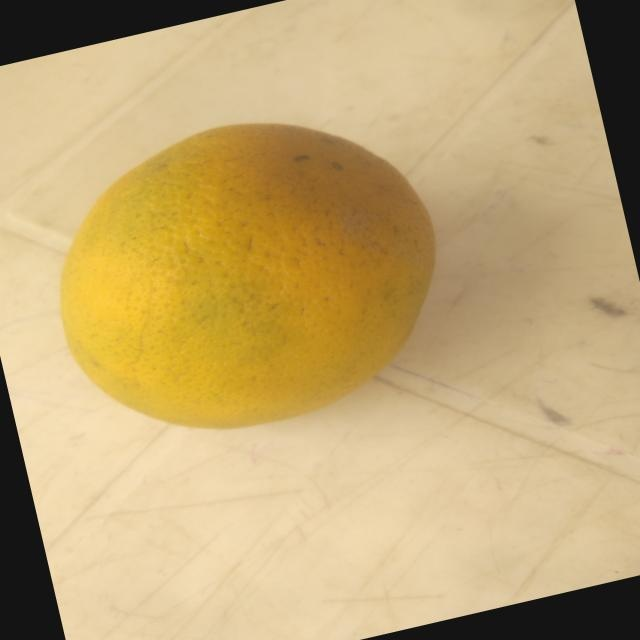agrume: (10, 71, 476, 501)
